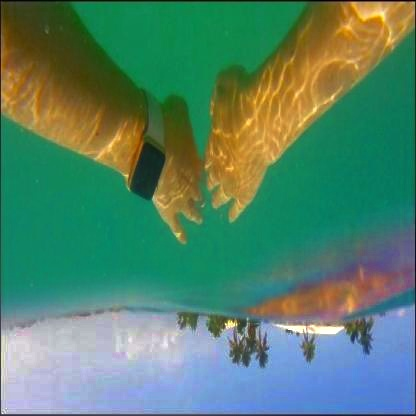electronics: (128, 86, 166, 202)
